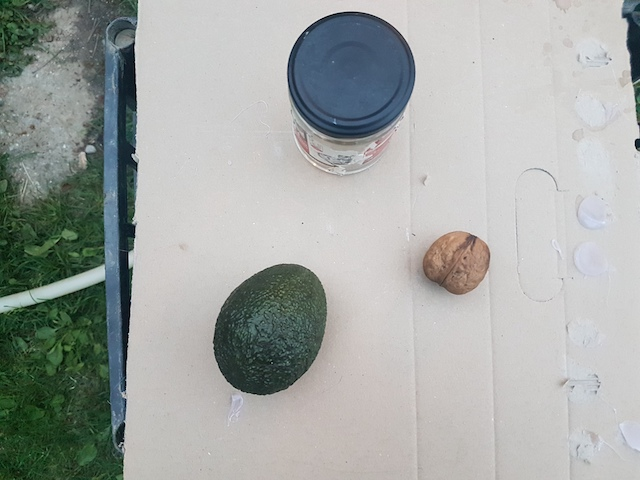avocado: (210, 259, 334, 398)
nut: (421, 224, 493, 297)
recipient: (286, 9, 419, 136)
